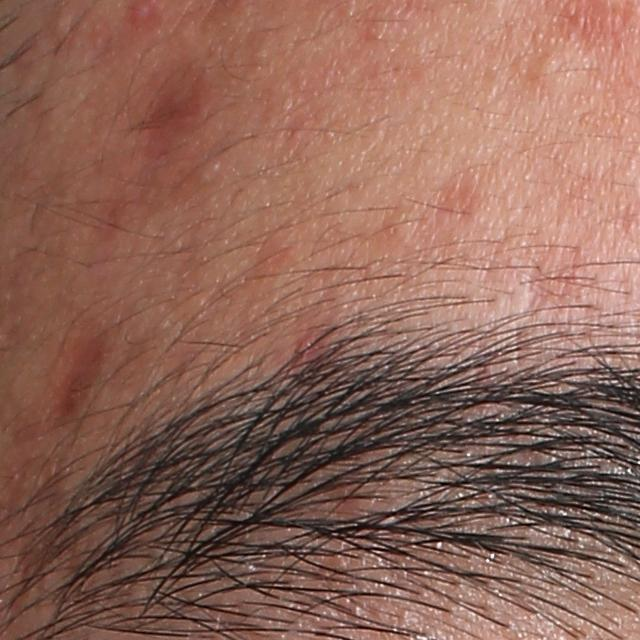atrophic_scar: (122, 59, 203, 165), (34, 322, 109, 433), (516, 244, 588, 312)
comedo: (533, 50, 567, 83)
